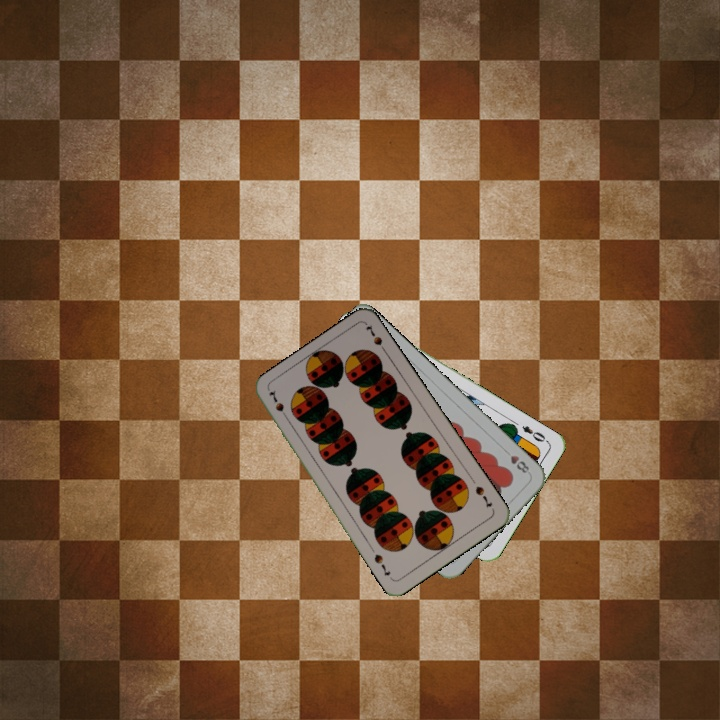EO: (518, 422, 551, 445)
H8: (500, 445, 532, 476)
S7: (265, 387, 292, 424), (471, 482, 495, 510)
